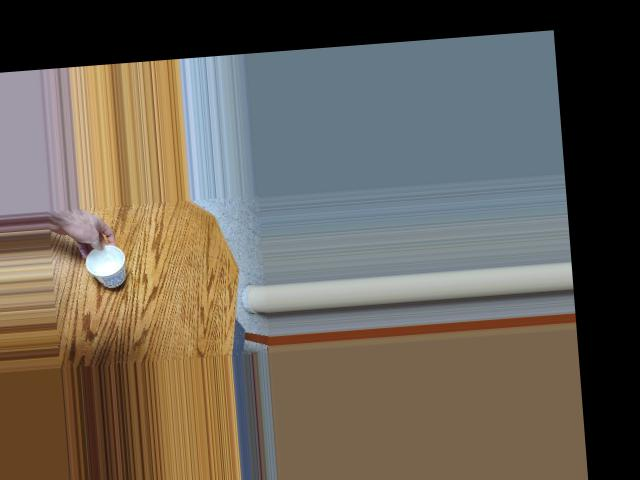cotage: (86, 240, 125, 287)
